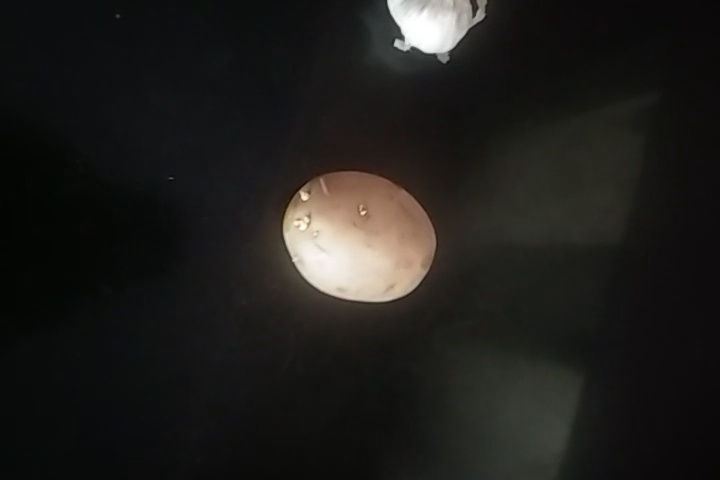garlic: (392, 1, 475, 64)
potato: (281, 174, 426, 313)
